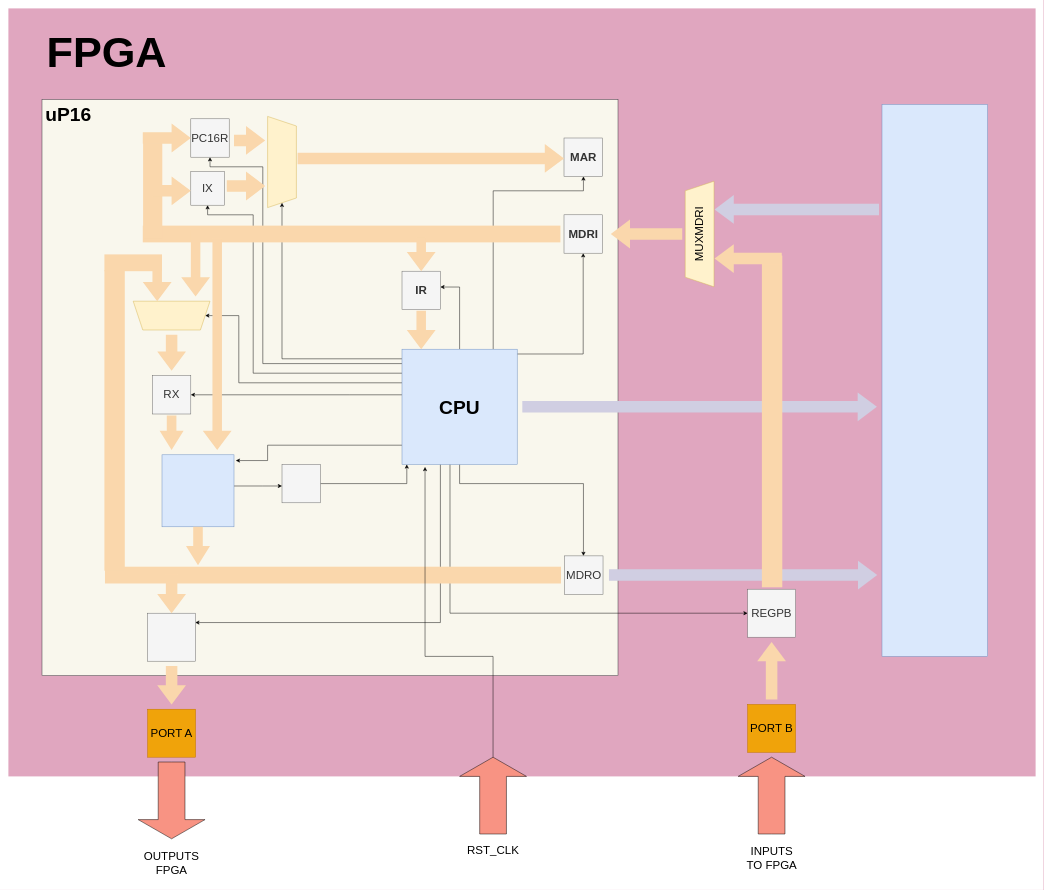
Image size: 1044x890. Some labels were removed from this diagram. The shapes that lost their labels are listed below. From the top down, each one's centre as x and y in pixels, then its label:
At [281,162]: "MUXMAR2".
At [171,315]: "MUXRX".
At [935,380]: "MEMORY".
At [198,490]: "ALU".
At [301,483]: "CCR".
At [171,637]: "REGPA".
